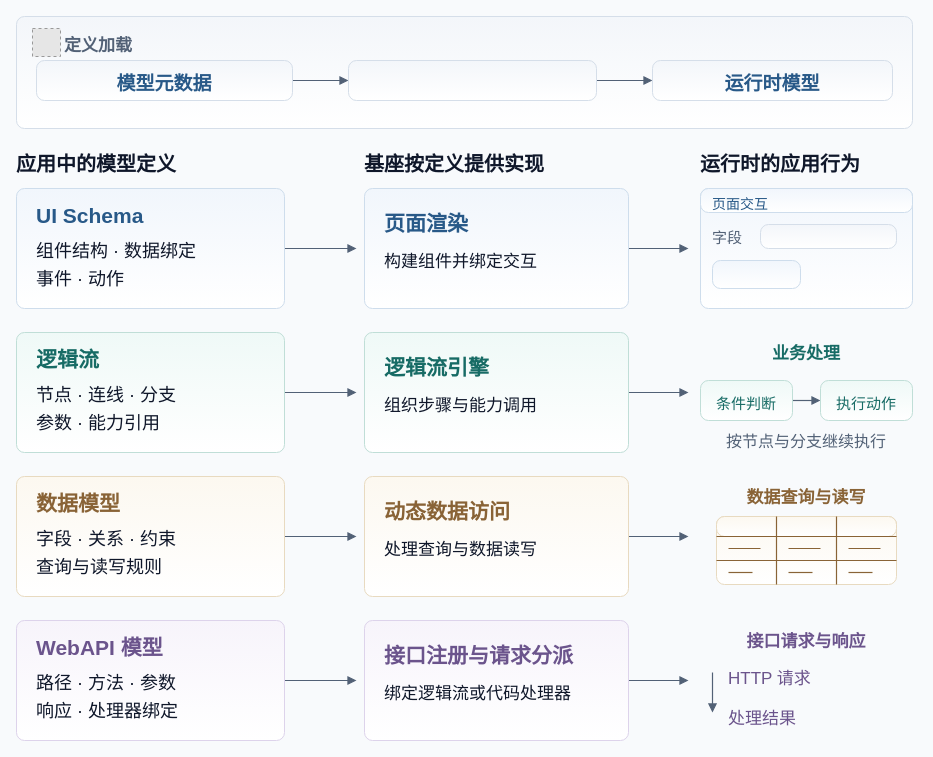
Image size: 933x757. Some labels were removed from this diagram. Grey dashed boxes stand in for pictures. Each missing label, with the centre of its shape:
"提交" belongs at (756,274).
"读取 · 校验 · 构建" belongs at (472,80).
